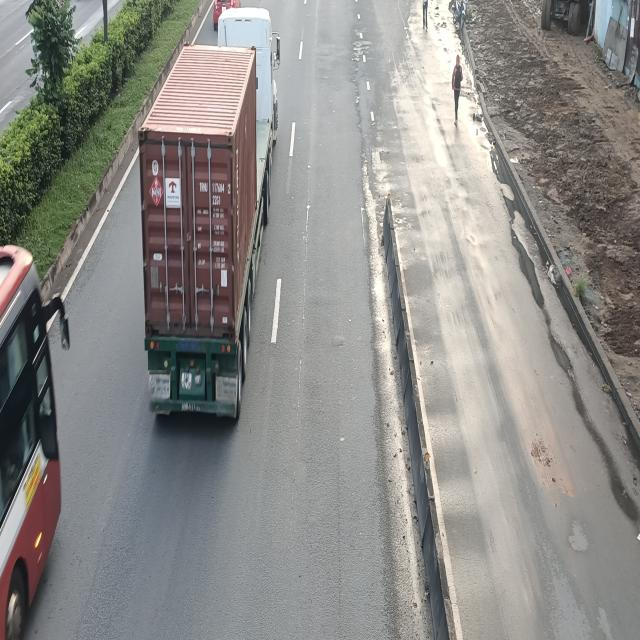container: (138, 8, 281, 419)
